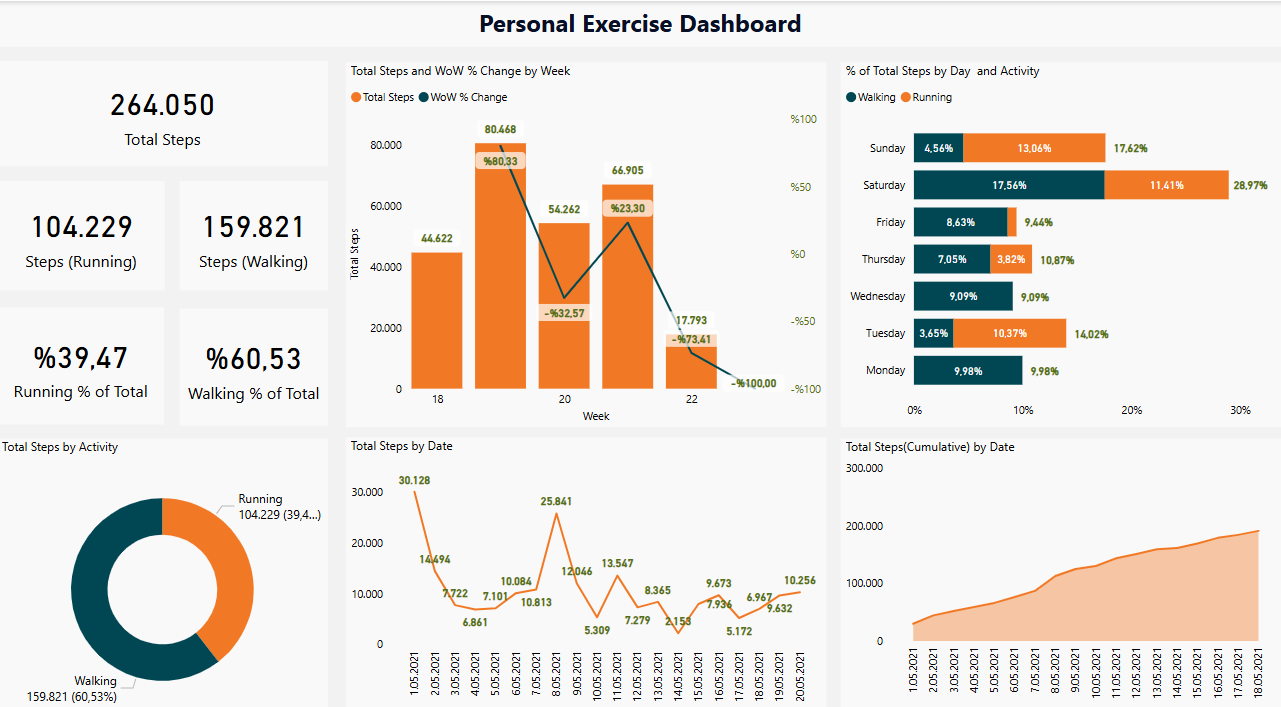

The page's visual inventory and layout, read from the dashboard file:
{"tool":"powerbi","page":{"name":"Dashboard w/Advanced Calculations","canvas":[1280,720],"ordinal":1},"visuals":[{"type":"textbox","box":[0,0,1280.3,45.3],"z":0},{"type":"card","fields":{"Values":["Basic Calculations.Total Steps"]},"box":[0,59.2,329.5,104.9],"z":1000},{"type":"donutChart","fields":{"Y":["Basic Calculations.Total Steps"],"Series":["DIM_Activity.ActivityName"]},"box":[0,435.7,329.5,285.1],"z":2000},{"type":"lineChart","fields":{"Y":["Basic Calculations.Total Steps"],"Category":["DIM_Date.Date"]},"box":[347,434.4,478.8,285.1],"z":3000},{"type":"barChart","fields":{"Y":["Basic Calculations.Total Steps"],"Series":["DIM_Activity.ActivityName"],"Category":["DIM_Date.Day Name"]},"box":[839.2,60.5,441.1,363.1],"z":4000},{"type":"card","fields":{"Values":["Advanced Calculations.Running % of Total"]},"box":[0,305.3,166.8,117],"z":5000},{"type":"card","fields":{"Values":["Advanced Calculations.Walking % of Total"]},"box":[181.6,306.6,147.9,117],"z":6000},{"type":"areaChart","fields":{"Category":["DIM_Date.Date"],"Y":["Advanced Calculations.Total Steps(Cumulative)"]},"box":[839.2,435.7,441.1,283.8],"z":7000},{"type":"card","fields":{"Values":["Advanced Calculations.Steps (Walking)"]},"box":[181.6,178.9,147.9,108.9],"z":8000},{"type":"card","fields":{"Values":["Advanced Calculations.Steps (Running)"]},"box":[1.3,178.9,165.4,108.9],"z":9000},{"type":"lineStackedColumnComboChart","fields":{"Y2":["Advanced Calculations.Week Over Week  Change Steps"],"Category":["DIM_Date.Week of Year"],"Y":["Basic Calculations.Total Steps"]},"box":[347,60.5,478.8,363.1],"z":10000}]}

Visuals, with their boxes in screenshot pixels (x1, y1, x2, y2), scaled from the page's 1280x720 canvas onto the 1281x707 screenshot:
textbox: left=0, top=0, right=1280, bottom=44
card - Basic Calculations.Total Steps: left=0, top=58, right=330, bottom=161
donutChart - Basic Calculations.Total Steps x DIM_Activity.ActivityName: left=0, top=428, right=330, bottom=706
lineChart - Basic Calculations.Total Steps x DIM_Date.Date: left=347, top=427, right=826, bottom=706
barChart - Basic Calculations.Total Steps x DIM_Activity.ActivityName: left=840, top=59, right=1280, bottom=416
card - Advanced Calculations.Running % of Total: left=0, top=300, right=167, bottom=415
card - Advanced Calculations.Walking % of Total: left=182, top=301, right=330, bottom=416
areaChart - DIM_Date.Date x Advanced Calculations.Total Steps(Cumulative): left=840, top=428, right=1280, bottom=706
card - Advanced Calculations.Steps (Walking): left=182, top=176, right=330, bottom=283
card - Advanced Calculations.Steps (Running): left=1, top=176, right=167, bottom=283
lineStackedColumnComboChart - Advanced Calculations.Week Over Week  Change Steps x DIM_Date.Week of Year: left=347, top=59, right=826, bottom=416
